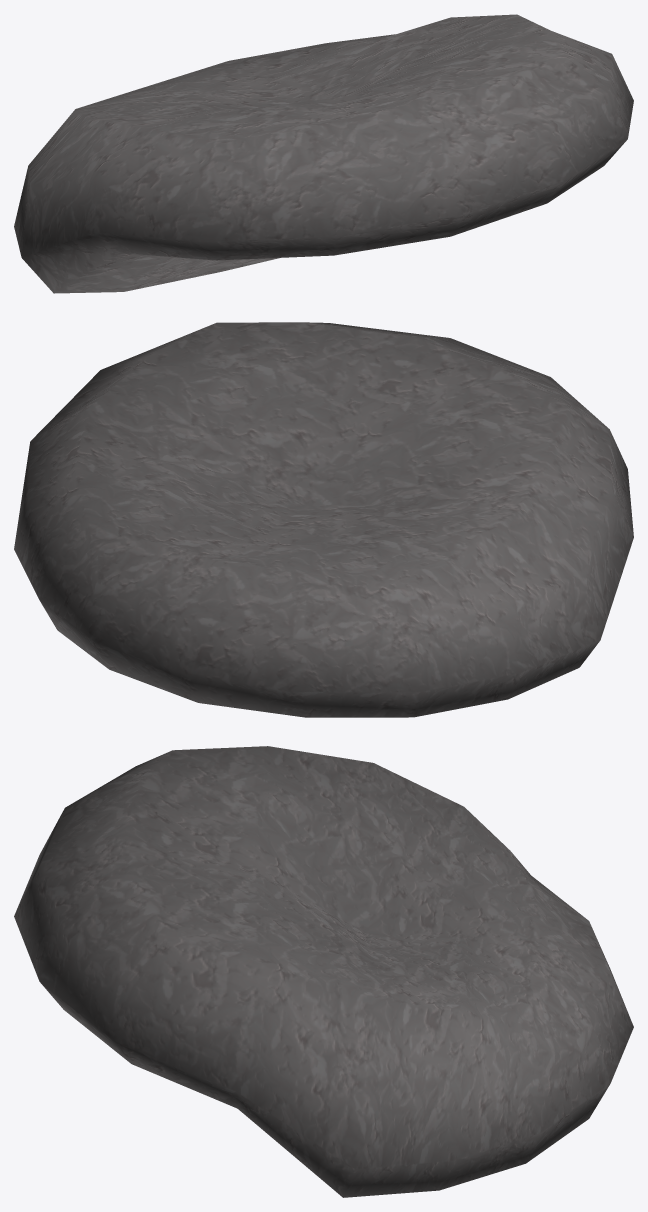
The model's file is Ceramica1.fbx.
3 views of the same model, one above another, from view 1: azimuth 30°, elevation 25°; view 2: azimuth 150°, elevation 25°; view 3: azimuth 270°, elevation 25° (orthographic). The views are drawn at different scales.
Visible parts, largest first — view 1: arcilla; view 2: arcilla; view 3: arcilla.
Boxes of the visible parts, x1,y1,x2,y2 form: arcilla: (14,14,633,293); arcilla: (14,322,633,717); arcilla: (14,746,633,1197).
Bounding box in the file's own units: 99.08 × 37.4 × 81.45.
Materials: 1 (1 with a texture image).
